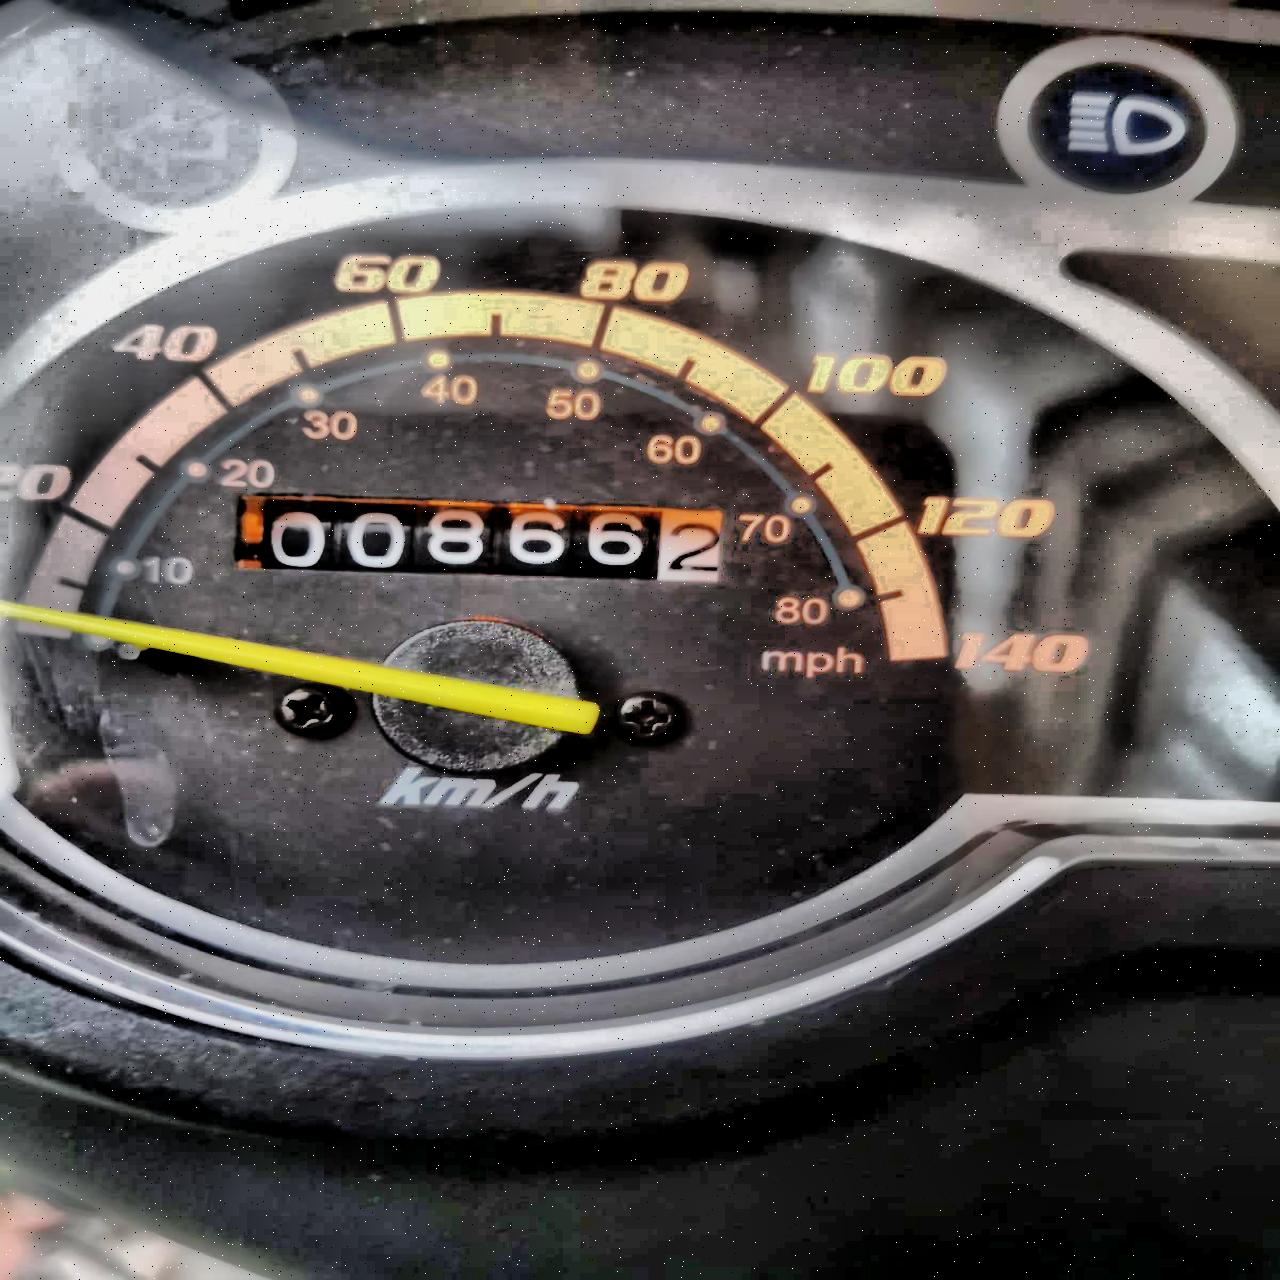0: (339, 512, 409, 573), (266, 509, 328, 568)
2: (658, 515, 726, 586)
6: (506, 509, 567, 566), (587, 509, 645, 566)
8: (421, 506, 490, 572)
odometer: (229, 486, 743, 591)
